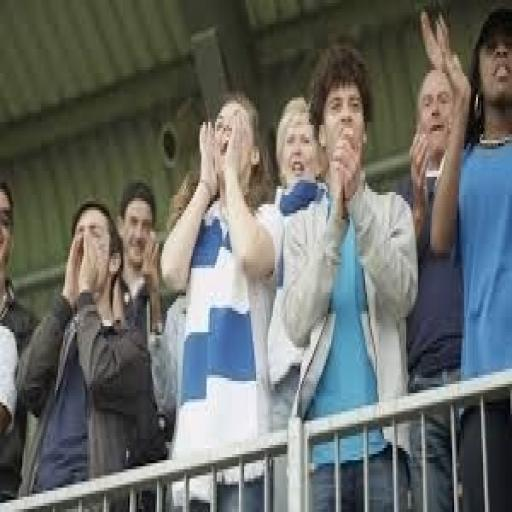clapping: (278, 40, 420, 509), (412, 20, 512, 500)
